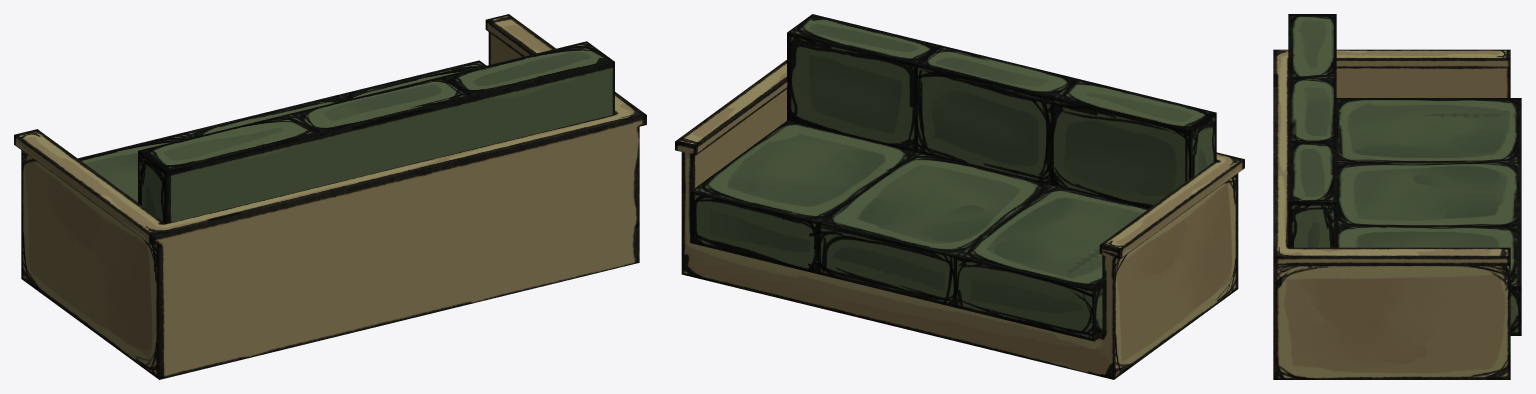
Rendered from sofa_final.fbx.
3 renders of one model, left to right at view 1: azimuth 30°, elevation 25°; view 2: azimuth 150°, elevation 25°; view 3: azimuth 270°, elevation 25°, orthographic. The views are drawn at different scales.
Visible parts, largest first — view 1: sofa_main.001, sofa_pillow.001; view 2: sofa_pillow.001, sofa_main.001; view 3: sofa_main.001, sofa_pillow.001.
Part boxes in pixels (<box>): sofa_main.001: <box>14,14,646,379</box>; sofa_pillow.001: <box>78,41,614,223</box>; sofa_pillow.001: <box>690,14,1216,341</box>; sofa_main.001: <box>675,60,1244,379</box>; sofa_main.001: <box>1273,49,1510,379</box>; sofa_pillow.001: <box>1288,14,1521,335</box>.
Size of the model in its own units: 4.1 by 1.57 by 2.07.
2 materials, 2 textured.
